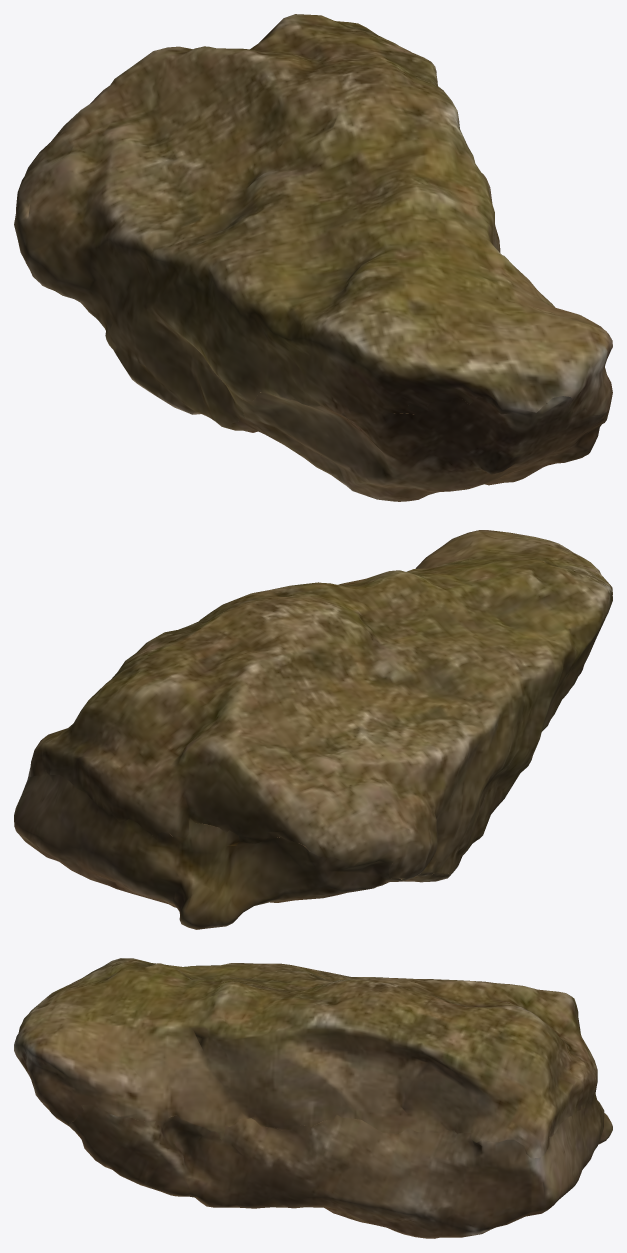
File: rock_moss_set_01_4.glb
The picture shows the model from 3 angles, top to bottom: view 1: azimuth 30°, elevation 25°; view 2: azimuth 150°, elevation 25°; view 3: azimuth 270°, elevation 25°; orthographic projection. The views are drawn at different scales.
Parts seen in each view (by area): view 1: rock_moss_set_01_rock05; view 2: rock_moss_set_01_rock05; view 3: rock_moss_set_01_rock05.
Part boxes in pixels (x1,y1,x2,y2): rock_moss_set_01_rock05: [14, 14, 612, 501]; rock_moss_set_01_rock05: [14, 530, 612, 929]; rock_moss_set_01_rock05: [14, 958, 612, 1238].
Bounding box in the file's own units: 1.82 × 1.21 × 3.
Materials: 1 (1 with a texture image).
